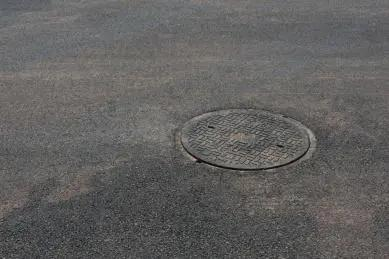wellcover: (176, 108, 316, 171)
